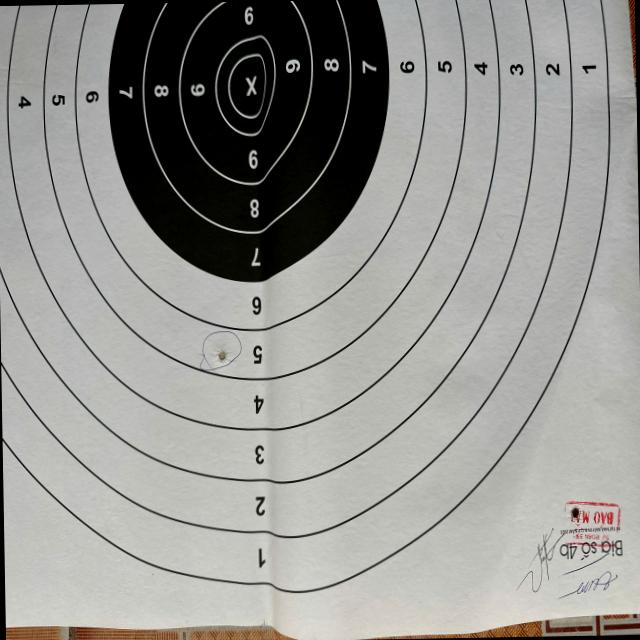bullet: (571, 508, 579, 519), (217, 354, 228, 361)
target: (10, 0, 640, 640)
